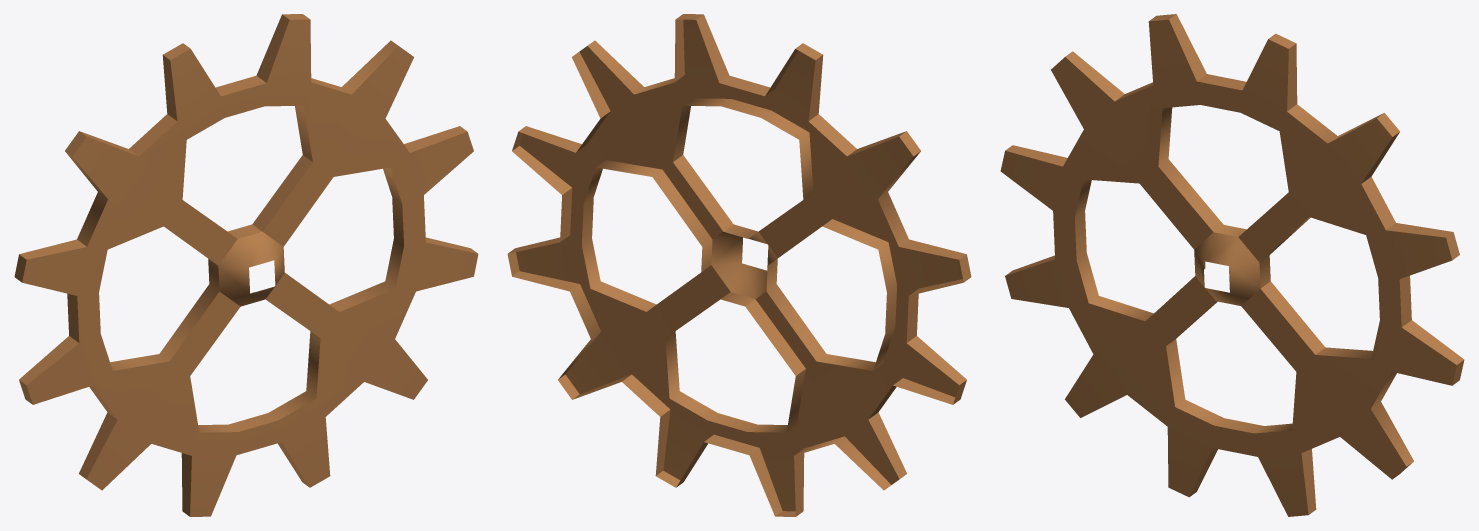
Rendered from cog_03.fbx.
3 views of the same model, side by side, from view 1: azimuth 30°, elevation 25°; view 2: azimuth 150°, elevation 25°; view 3: azimuth 330°, elevation 25° (orthographic).
Parts seen in each view (by area): view 1: cog_03; view 2: cog_03; view 3: cog_03.
Boxes of the visible parts, x1,y1,x2,y2 form: cog_03: [14, 14, 478, 516]; cog_03: [507, 14, 971, 516]; cog_03: [1000, 14, 1464, 516].
Bounding box in the file's own units: 204 × 204 × 16.14.
